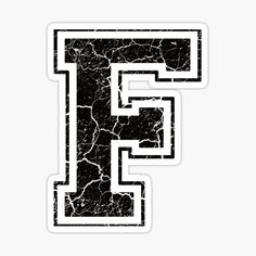f: (46, 24, 210, 238)
